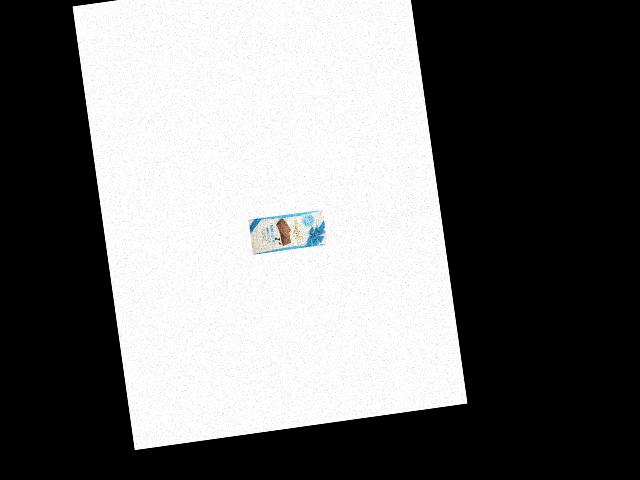chocolate: (245, 206, 329, 260)
